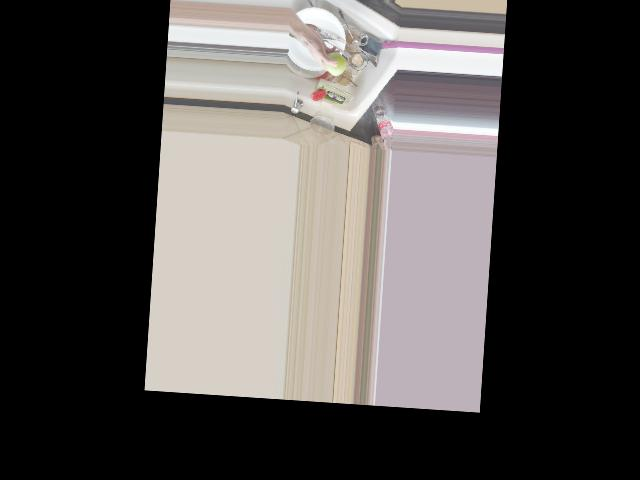apple: (320, 49, 347, 77)
